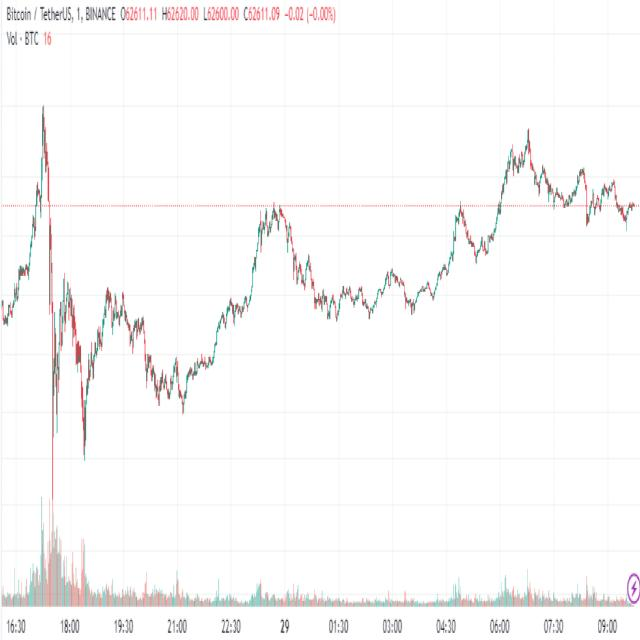Cup-and-handle: (275, 139, 517, 349)
Double-Bottom: (42, 235, 108, 466)
